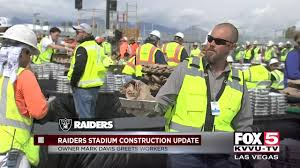helmet: (8, 25, 40, 51), (173, 31, 184, 39), (152, 29, 159, 38)
vest: (174, 64, 246, 137), (2, 70, 40, 162), (72, 44, 106, 87), (135, 46, 159, 79), (249, 67, 271, 94), (39, 37, 57, 63), (164, 43, 180, 67)
